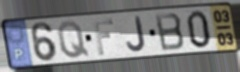0: (185, 9, 213, 50)
6: (30, 20, 59, 63)
B: (153, 11, 187, 53)
F: (91, 18, 115, 57)
J: (126, 15, 148, 54)
Q: (56, 19, 92, 60)
